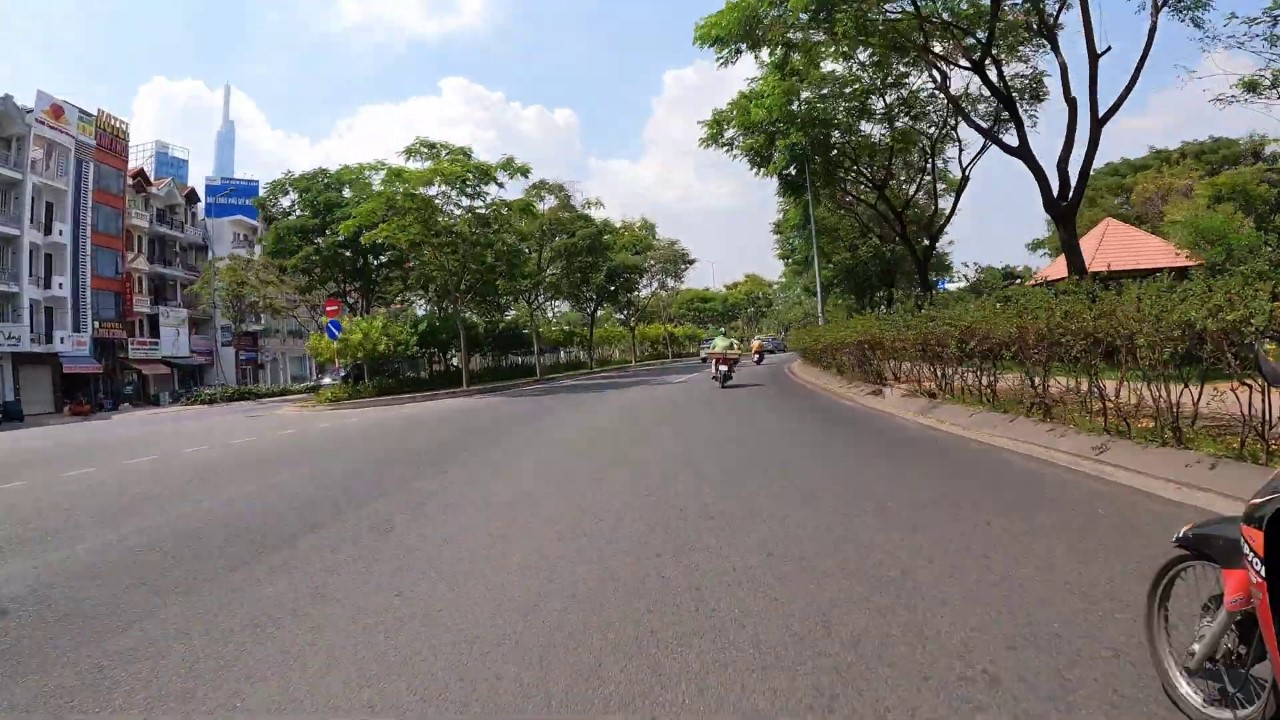cam_nguoc_chieu: (324, 298, 341, 319)
huong_phai_di_vong: (325, 320, 342, 340)
